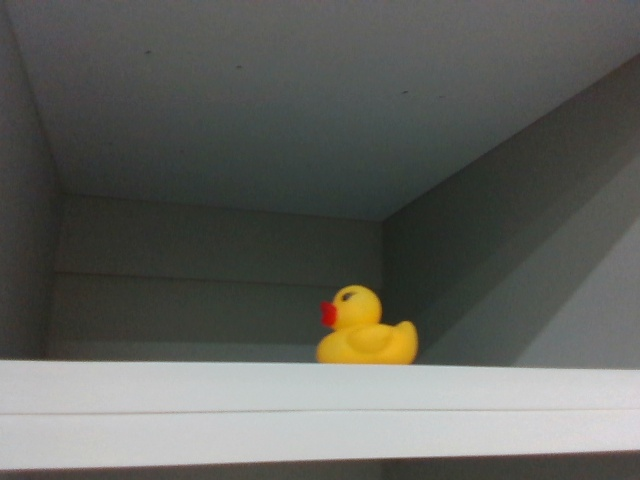duck: (312, 281, 422, 371)
